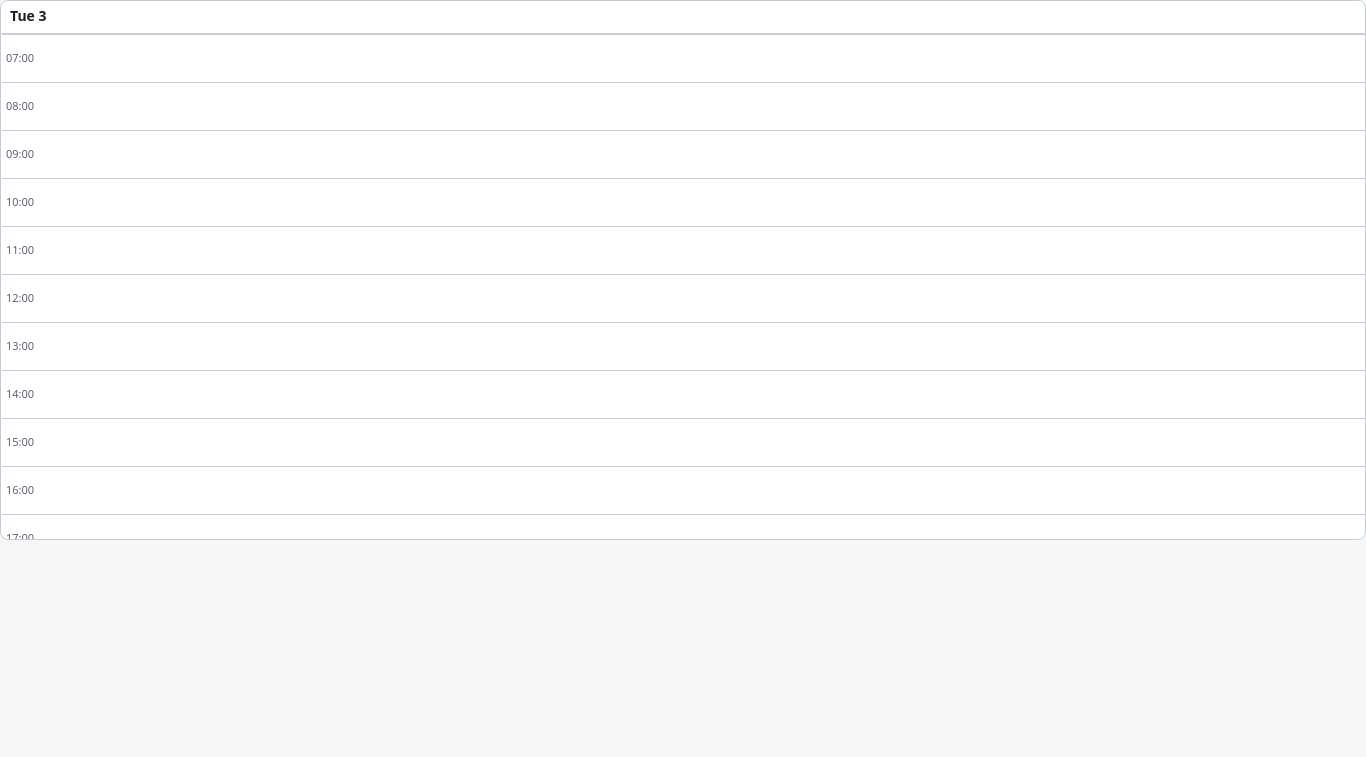
Test: Calendar: making an event › opens a form for one hour when a slot is clicked, with focus in the title
(page scrolled)
Click the button "14:00".
click(20, 394)  # box x1=2 y1=370 x2=1365 y2=418
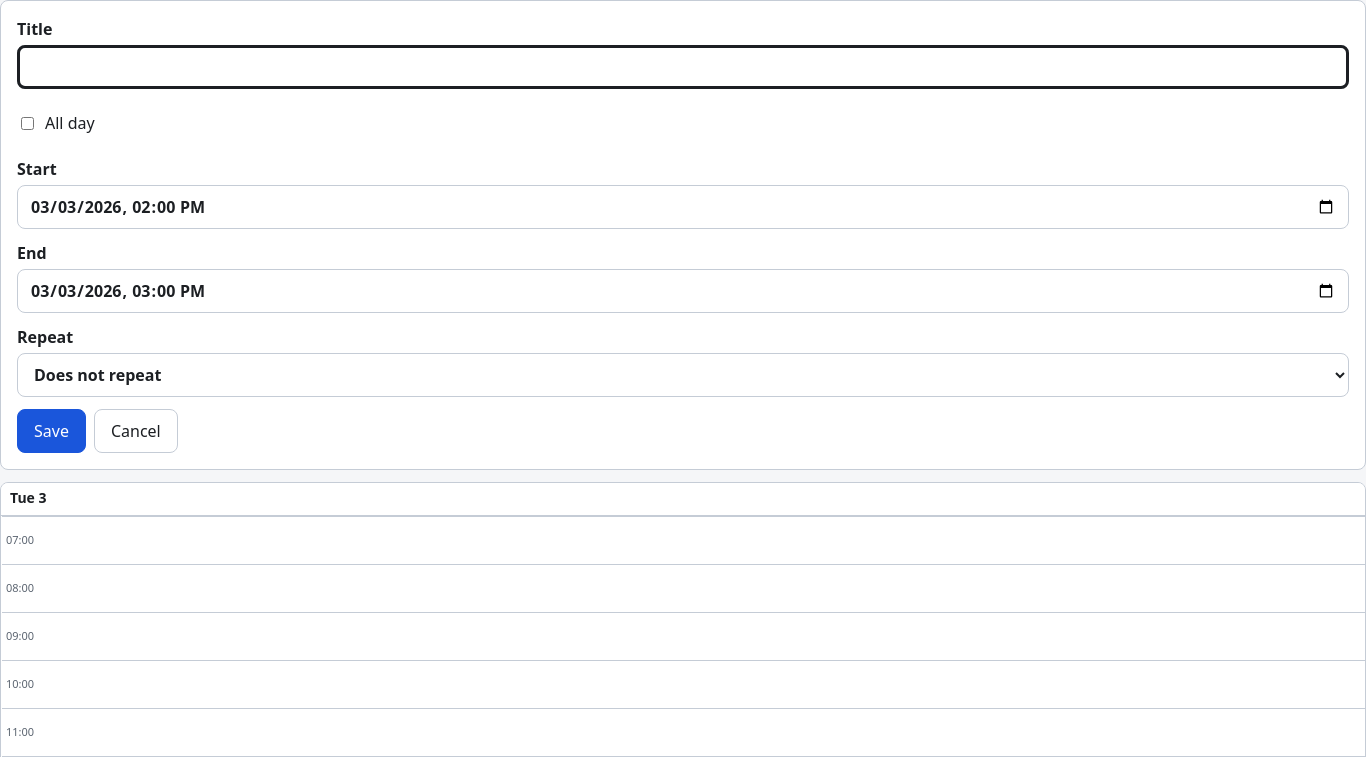
expect the form named "New event" is shown: met
expect the field labelled "Start" holds "2026-03-03T14:00": met, box x1=17 y1=185 x2=1349 y2=229
expect the field labelled "End" holds "2026-03-03T15:00": met, box x1=17 y1=269 x2=1349 y2=313
